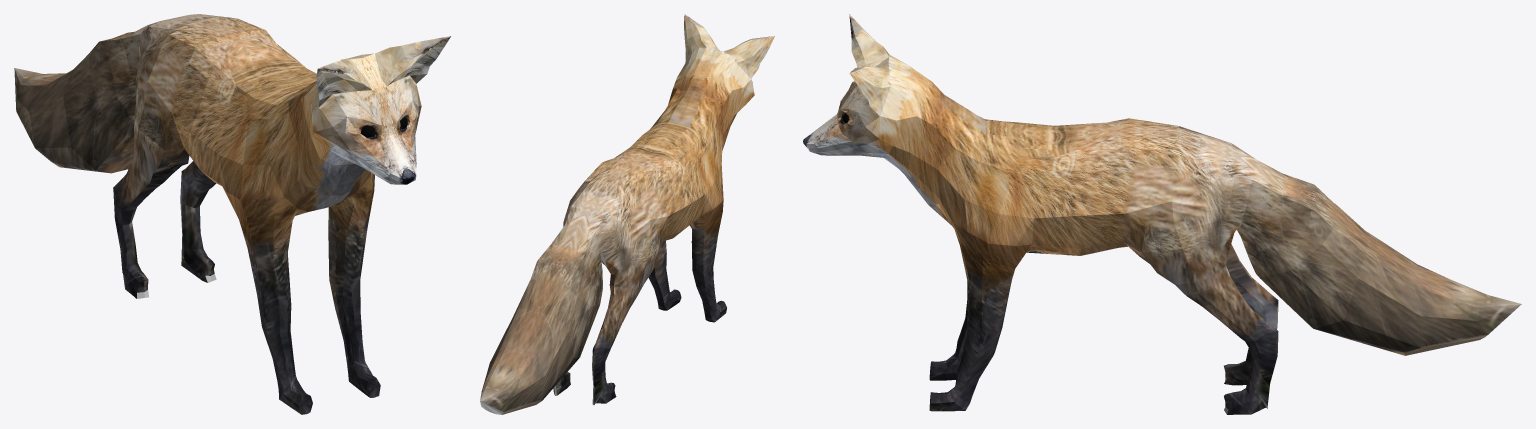
File: fox.fbx
The picture shows the model from 3 angles, left to right: view 1: azimuth 30°, elevation 25°; view 2: azimuth 150°, elevation 25°; view 3: azimuth 270°, elevation 25°; orthographic projection. The views are drawn at different scales.
Visible parts, largest first — view 1: Plane; view 2: Plane; view 3: Plane.
Boxes of the visible parts, left/top/right/bottom form: Plane: left=14, top=14, right=450, bottom=414; Plane: left=480, top=14, right=774, bottom=414; Plane: left=803, top=14, right=1521, bottom=414.
Size of the model in its own units: 160 by 441 by 810.
Materials: 2 (1 with a texture image).
